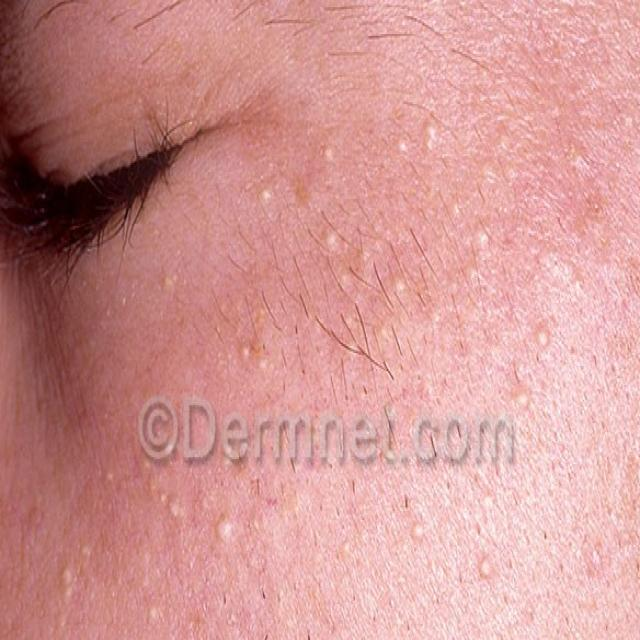Acne: (382, 104, 640, 389), (53, 457, 260, 640), (393, 496, 639, 640), (226, 170, 375, 397), (313, 119, 349, 193)
